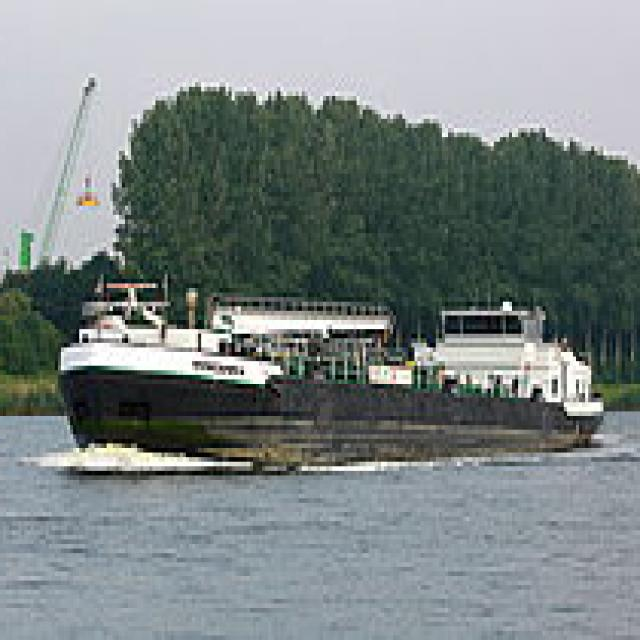Tanker: (58, 238, 609, 466)
